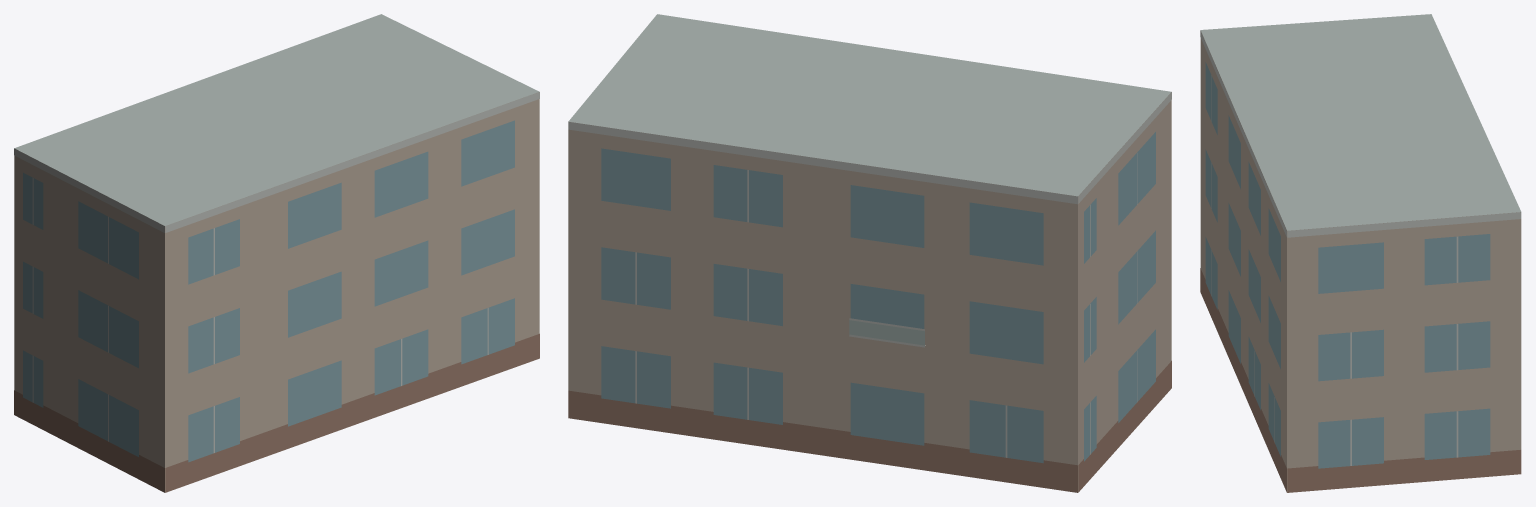
File: survey-upis-32706523.glb
3 renders of one model, left to right at view 1: azimuth 30°, elevation 25°; view 2: azimuth 150°, elevation 25°; view 3: azimuth 270°, elevation 25°, orthographic. The views are drawn at different scales.
Parts seen in each view (by area): view 1: survey-upis-32706523.tmp; view 2: survey-upis-32706523.tmp; view 3: survey-upis-32706523.tmp.
Part boxes in pixels (box(x1,y1,x2,y2)): survey-upis-32706523.tmp: box(14, 14, 539, 492); survey-upis-32706523.tmp: box(568, 14, 1171, 492); survey-upis-32706523.tmp: box(1200, 14, 1521, 492).
Size of the model in its own units: 16.24 by 9.15 by 10.17.
